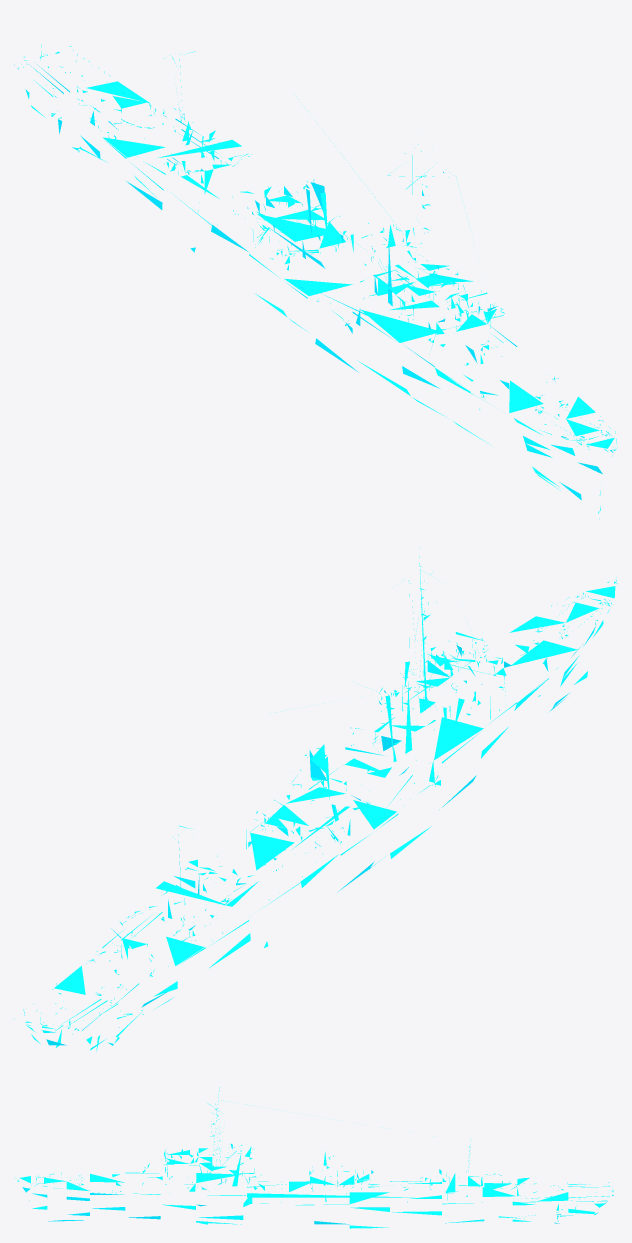
The model's file is Hoche.glb.
3 views of the same model, one above another, from view 1: azimuth 30°, elevation 25°; view 2: azimuth 150°, elevation 25°; view 3: azimuth 270°, elevation 25° (orthographic). The views are drawn at different scales.
Size of the model in its own units: 0.7919 by 2.1 by 8.52.
